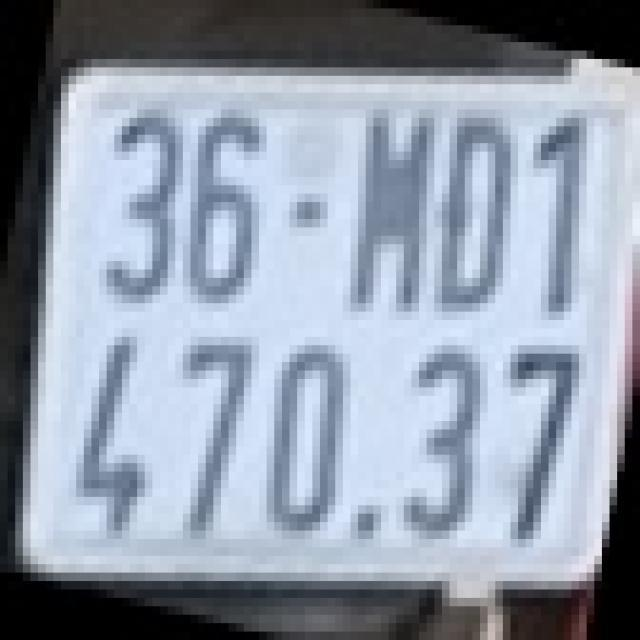0: (267, 345, 343, 531)
1: (533, 118, 587, 312)
3: (107, 109, 183, 295), (404, 354, 480, 530)
4: (76, 337, 152, 539)
6: (190, 110, 260, 304)
7: (176, 337, 252, 530), (503, 346, 579, 538)
D: (442, 110, 518, 304)
M: (351, 97, 426, 316)
